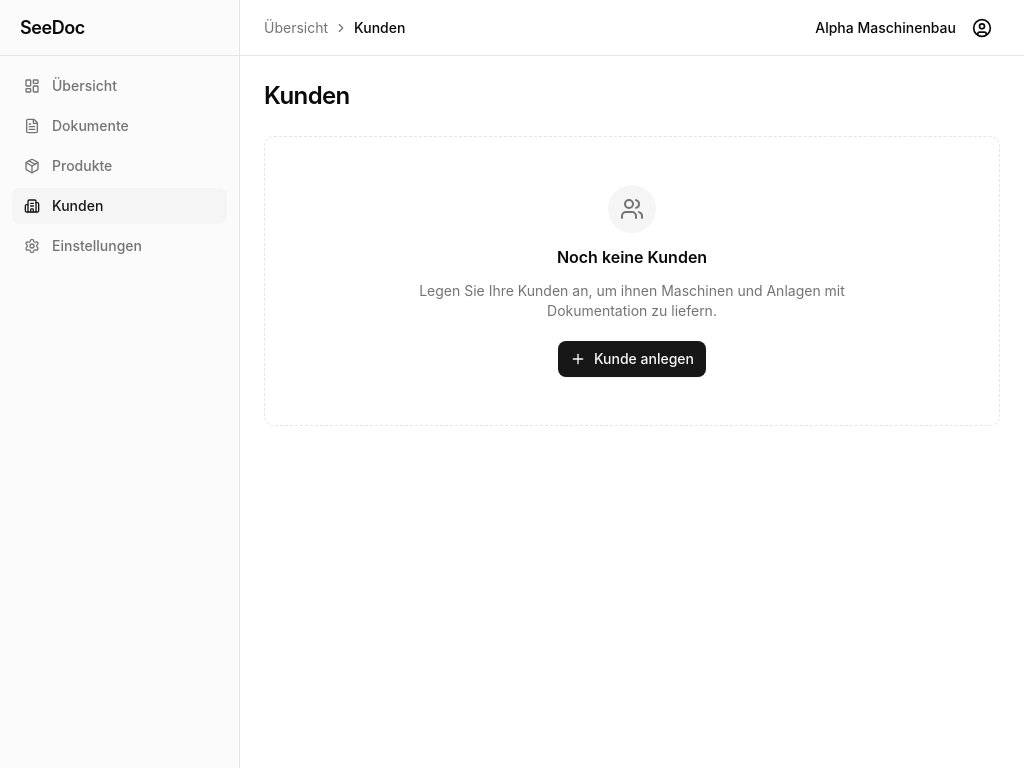
Test case: CustomersPage › offers to create the first customer
The width and height of the screenshot is (1024, 768).
Expected: the heading "Noch keine Kunden" is shown, [557,245,707,269]
Click the button "Kunde anlegen" at (632, 359), box [558,341,706,377]
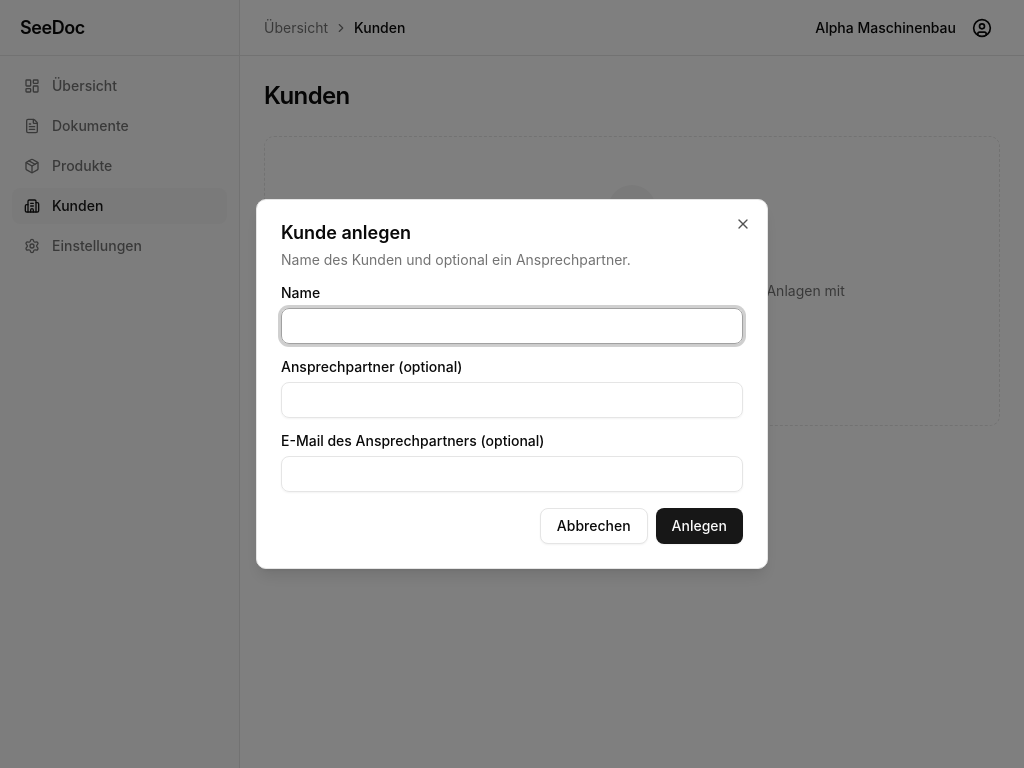
Expected: the dialog "Kunde anlegen" is shown, [256,199,768,569]
